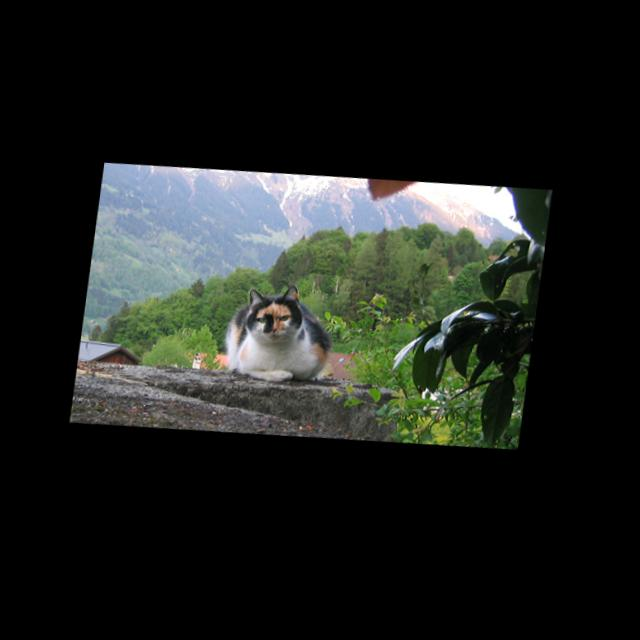animals: (248, 284, 301, 337)
